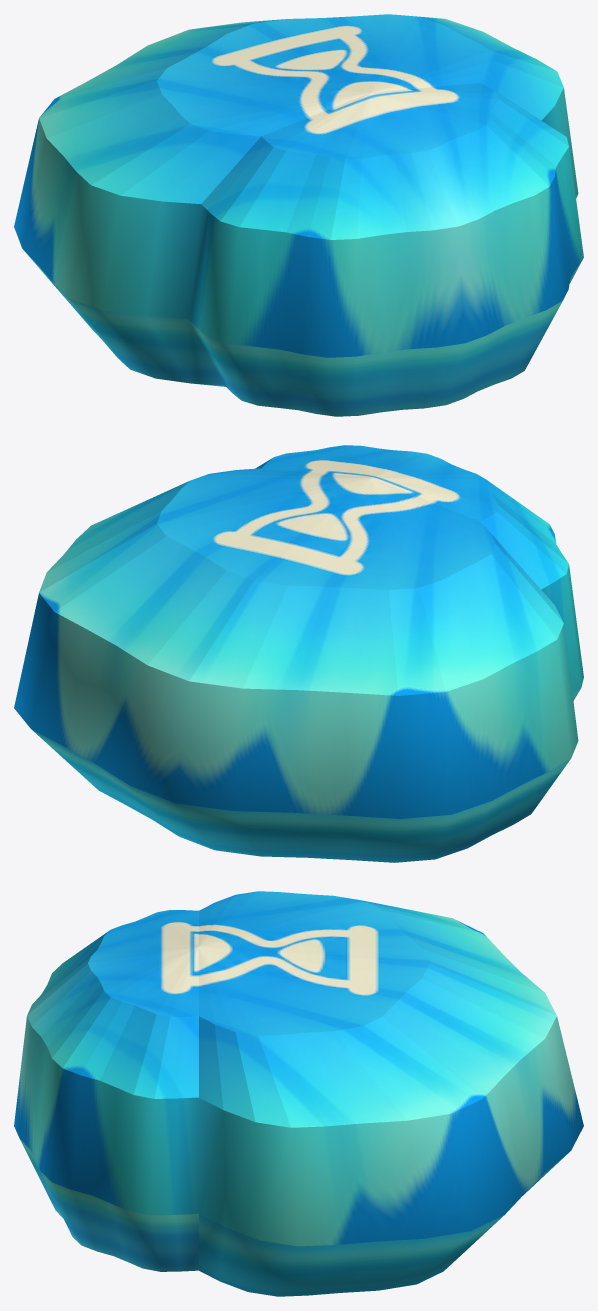
File: time_shell-BAxgUwlc.glb
3 renders of one model, top to bottom at view 1: azimuth 30°, elevation 25°; view 2: azimuth 150°, elevation 25°; view 3: azimuth 270°, elevation 25°, orthographic.
Parts seen in each view (by area): view 1: HI_time_shell; view 2: HI_time_shell; view 3: HI_time_shell.
Part boxes in pixels (x1,y1,x2,y2): HI_time_shell: (14, 14, 583, 416); HI_time_shell: (14, 445, 583, 862); HI_time_shell: (14, 891, 583, 1296).
Size of the model in its own units: 0.3 by 0.16 by 0.3.
Materials: 1 (1 with a texture image).
